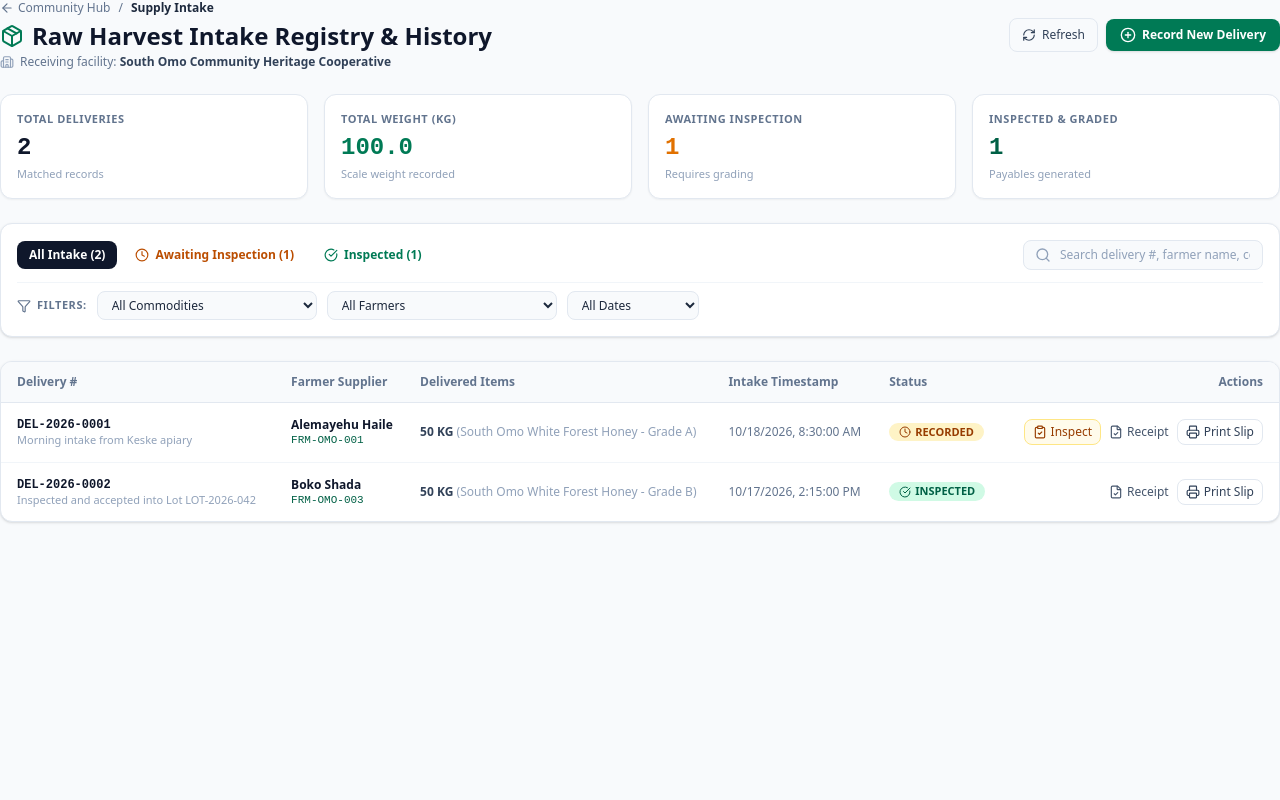
Test case: Raw Harvest Supply Intake & Receipt Generation (F-804) › displays error if farmer account is not active/verified
Expected: the text "DEL-2026-0001" is shown, x1=17 y1=418 x2=111 y2=432
Click the button with test id "open-record-delivery-button". click: (1193, 35)
box: x1=1106 y1=19 x2=1279 y2=51
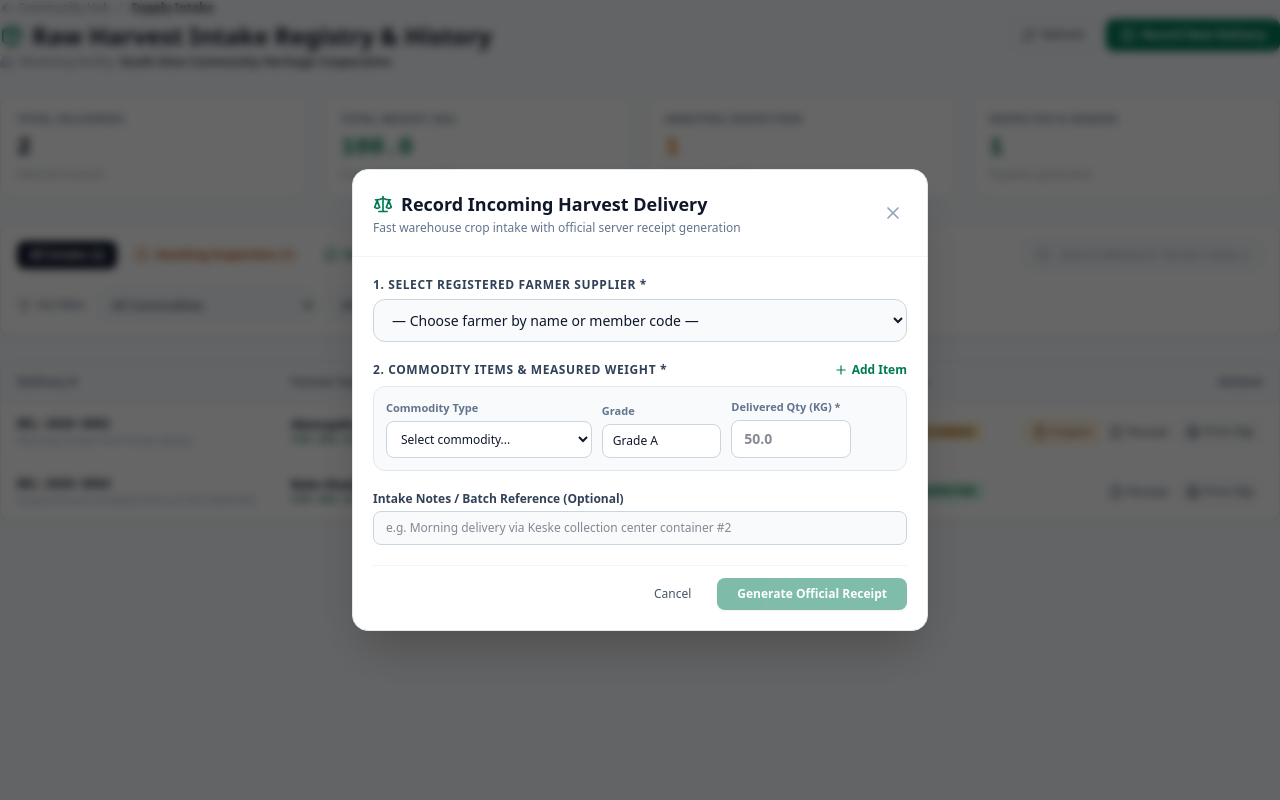
# Select unverified/pending farmer Wale Guyo
Select "Wale Guyo (FRM-OMO-002) - Dimeka Center [PENDING]" in the dropdown with test id "farmer-select". click: (640, 321)
box: x1=373 y1=299 x2=907 y2=342
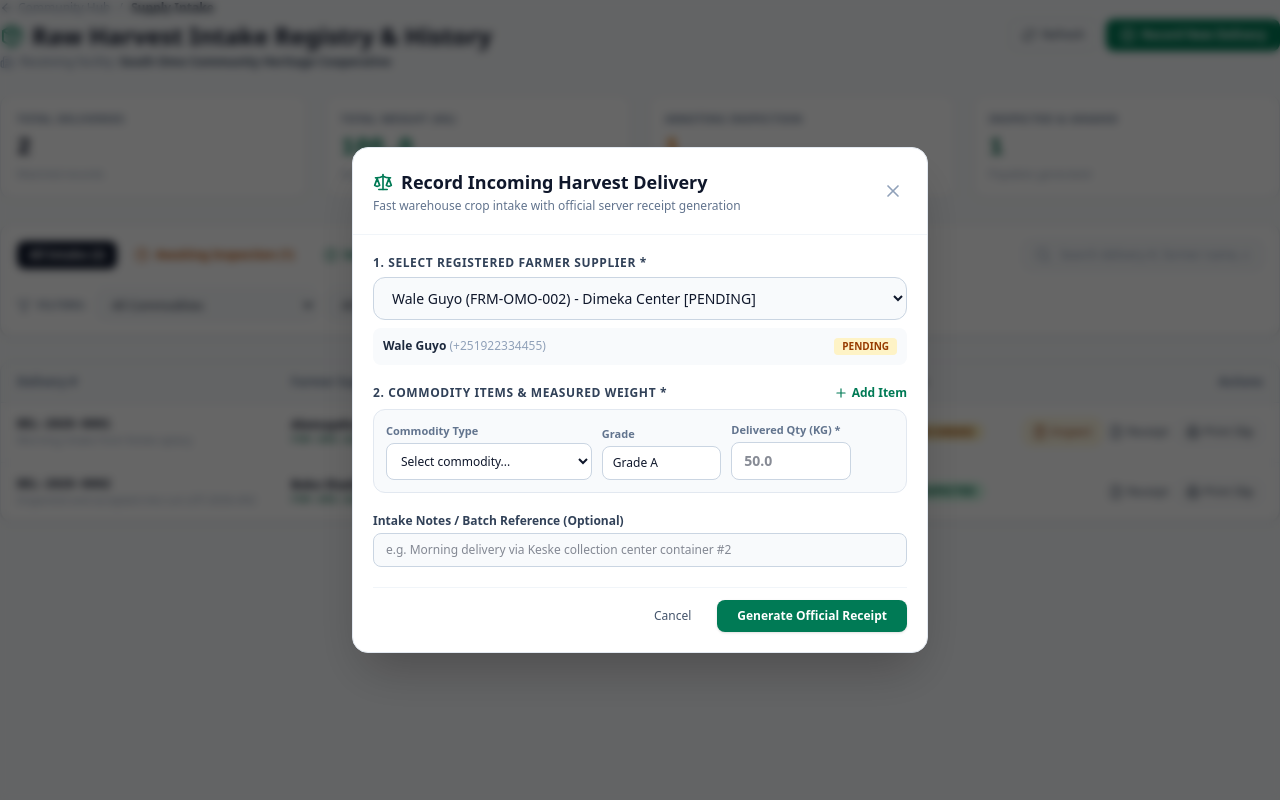
Select "South Omo White Forest Honey (KG)" in the dropdown with test id "item-type-select-0". click: (489, 462)
box: x1=386 y1=443 x2=592 y2=480
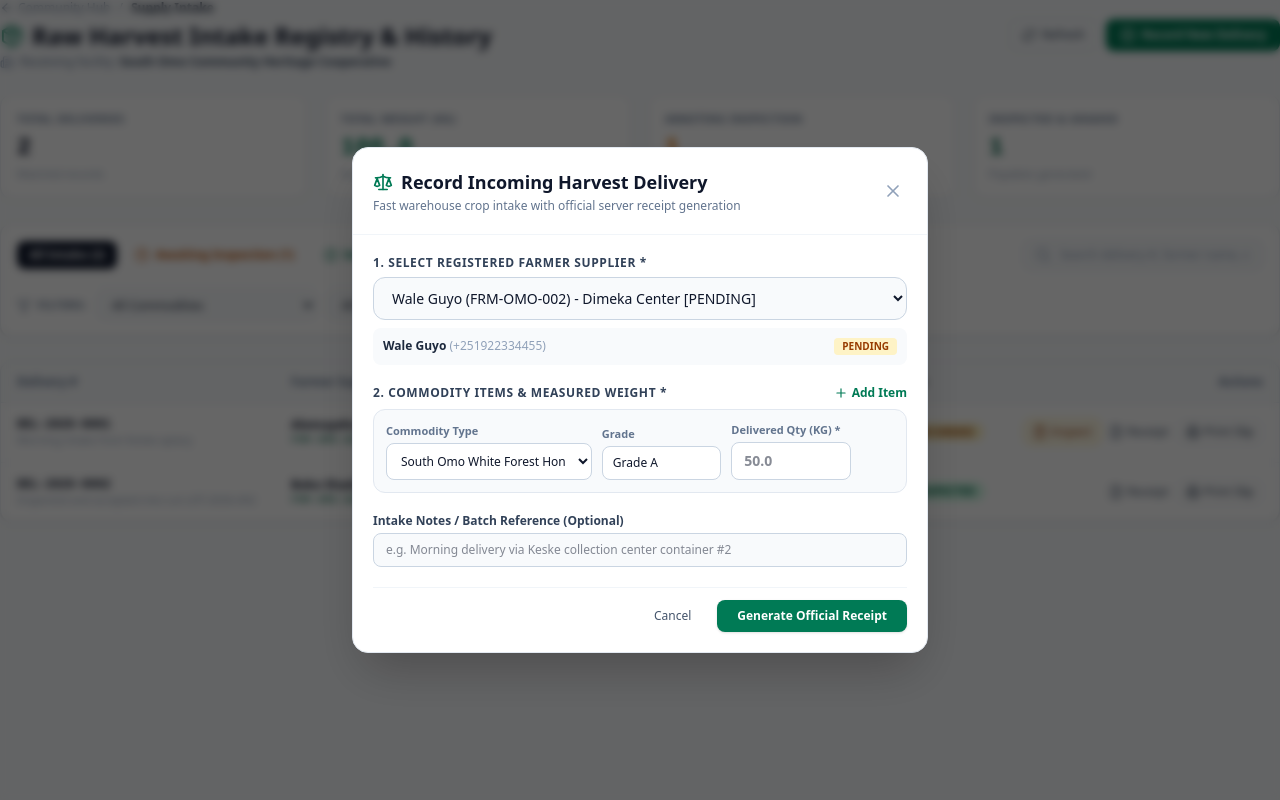
Type "25" into the number field with test id "item-qty-input-0". click: (791, 461)
box: x1=731 y1=442 x2=851 y2=480
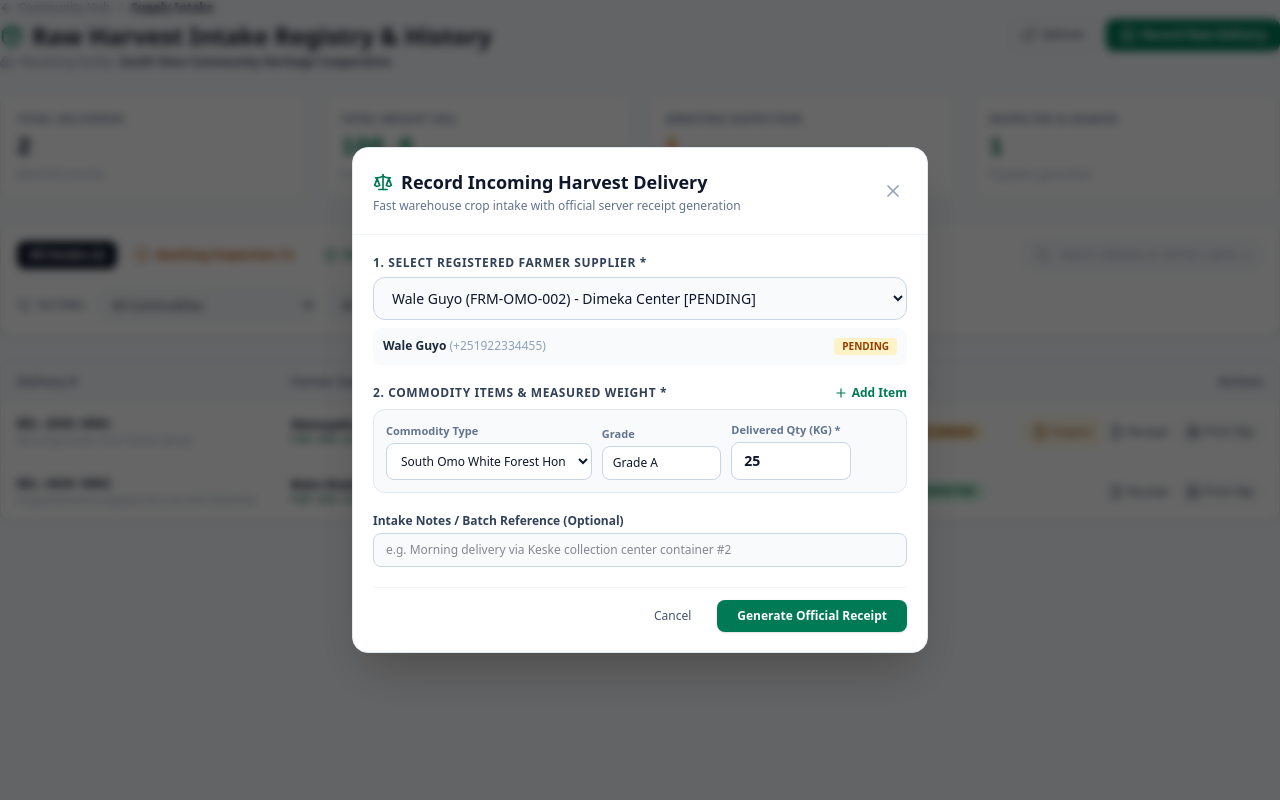
Click the button with test id "submit-delivery-button". click: (812, 616)
box: x1=717 y1=600 x2=907 y2=632
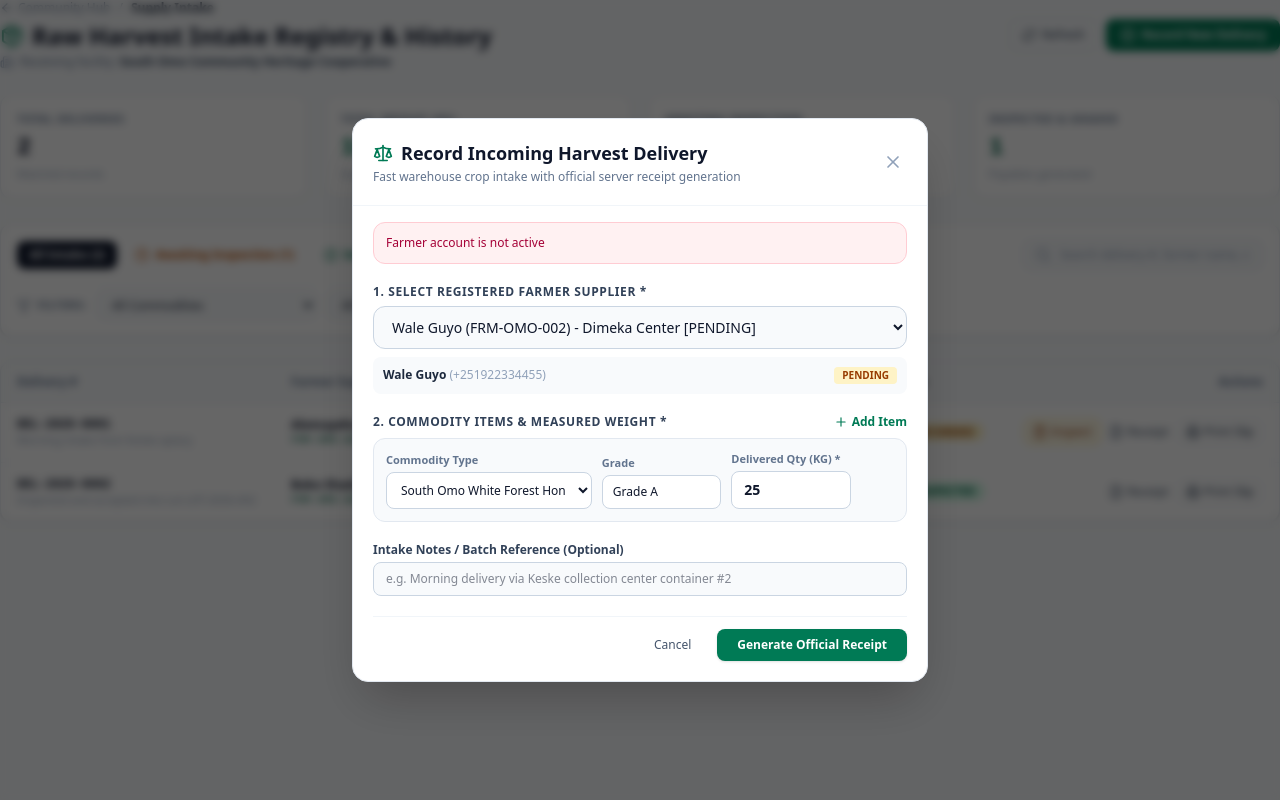
Expected: the text with test id "delivery-form-error" reads "Farmer account is not active", x1=386 y1=234 x2=545 y2=251
